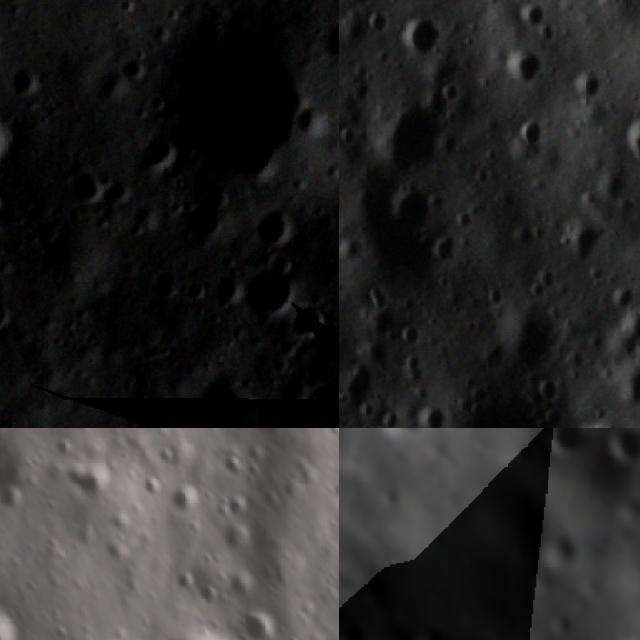crater: (152, 8, 328, 185), (366, 87, 461, 181), (487, 302, 566, 384), (184, 365, 277, 428), (234, 258, 302, 322), (450, 388, 554, 428), (176, 178, 233, 249), (386, 7, 456, 64), (339, 353, 391, 419), (555, 217, 612, 272), (384, 181, 437, 238), (56, 458, 123, 503), (503, 38, 556, 91), (56, 160, 112, 210), (129, 132, 182, 184), (536, 528, 582, 581), (284, 296, 332, 346), (590, 428, 640, 474), (230, 596, 281, 640), (6, 55, 51, 104), (248, 208, 301, 249), (612, 357, 640, 419), (164, 480, 207, 520), (143, 266, 182, 308), (23, 211, 62, 251), (509, 0, 551, 37), (527, 428, 589, 452), (313, 11, 339, 68), (406, 399, 455, 428), (618, 106, 640, 170), (398, 616, 450, 640), (112, 51, 148, 85), (393, 320, 429, 354), (0, 99, 16, 173), (538, 608, 575, 640), (182, 269, 209, 310), (0, 479, 30, 513), (0, 295, 18, 340), (339, 619, 373, 640), (381, 428, 418, 444), (0, 184, 10, 225), (339, 23, 345, 64)
